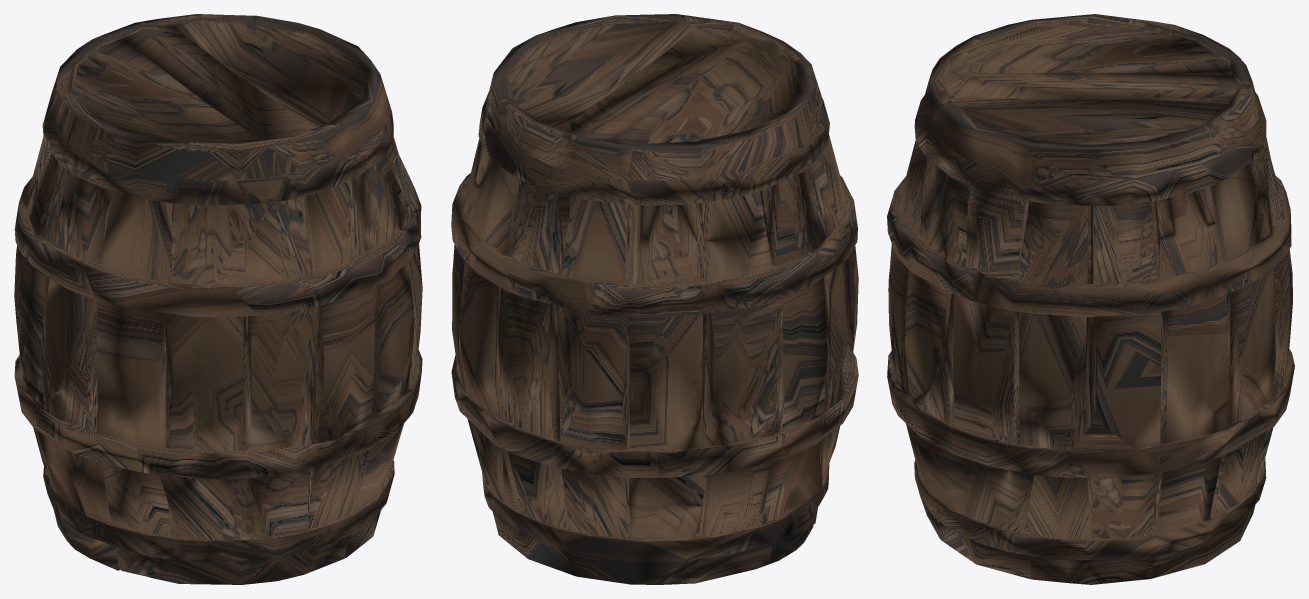
Rendered from barrel_old.glb.
3 views of the same model, side by side, from view 1: azimuth 30°, elevation 25°; view 2: azimuth 150°, elevation 25°; view 3: azimuth 270°, elevation 25° (orthographic).
Parts seen in each view (by area): view 1: mesh_node; view 2: mesh_node; view 3: mesh_node.
Part boxes in pixels (x1=…): mesh_node: x1=14, y1=14, x2=422, y2=584; mesh_node: x1=451, y1=14, x2=858, y2=584; mesh_node: x1=887, y1=14, x2=1294, y2=584.
Bounding box in the file's own units: 1.6 × 1.9 × 1.6.
1 material, 1 textured.
